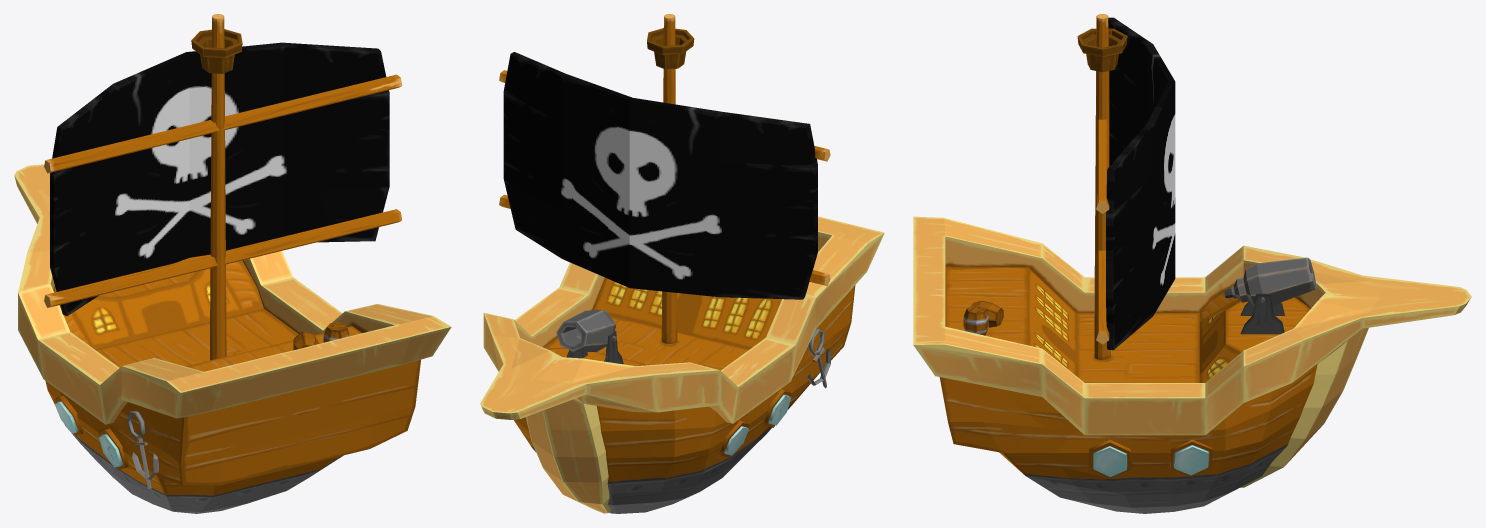
3 views of the same model, side by side, from view 1: azimuth 30°, elevation 25°; view 2: azimuth 150°, elevation 25°; view 3: azimuth 270°, elevation 25° (orthographic). The views are drawn at different scales.
Visible parts, largest first — view 1: Plane003_yj_0, Box001_yj_0, Box002_yj_0, Cylinder003_yj_0, Cylinder004_yj_0, Cylinder001_yj_0, Cylinder002_yj_0; view 2: Plane003_yj_0, Box002_yj_0, Box001_yj_0, Box003_yj_0, Cylinder015_yj_0, Cylinder001_yj_0, Cylinder002_yj_0; view 3: Box001_yj_0, Box002_yj_0, Plane003_yj_0, Box003_yj_0, Cylinder015_yj_0, Cylinder001_yj_0, Cylinder002_yj_0, Cylinder003_yj_0, Plane005_yj_0, Cylinder004_yj_0, Cylinder020_yj_0, Cylinder021_yj_0 (+1 smaller).
Part boxes in pixels (x1,y1,x2,y2): Plane003_yj_0: (50,42,389,316); Box001_yj_0: (45,255,420,513); Box002_yj_0: (14,164,451,424); Cylinder003_yj_0: (44,74,402,173); Cylinder004_yj_0: (44,209,401,307); Cylinder001_yj_0: (210,14,226,360); Cylinder002_yj_0: (191,29,242,73); Plane003_yj_0: (503,52,817,299); Box002_yj_0: (480,216,884,423); Box001_yj_0: (514,278,855,513); Box003_yj_0: (525,399,610,513); Cylinder015_yj_0: (556,310,615,351); Cylinder001_yj_0: (661,14,677,343); Cylinder002_yj_0: (647,28,694,69); Box001_yj_0: (939,267,1317,513); Box002_yj_0: (913,216,1471,435); Plane003_yj_0: (1106,17,1175,350); Box003_yj_0: (1240,327,1368,487); Cylinder015_yj_0: (1224,257,1316,305); Cylinder001_yj_0: (1094,14,1110,360); Cylinder002_yj_0: (1077,28,1127,72); Cylinder003_yj_0: (1096,71,1109,213); Plane005_yj_0: (1240,293,1284,334); Cylinder004_yj_0: (1096,250,1109,344); Cylinder020_yj_0: (1093,446,1126,476); Cylinder021_yj_0: (1174,445,1208,475).
Size of the model in its own units: 19.35 by 26.27 by 27.45.
Materials: 1 (1 with a texture image).
